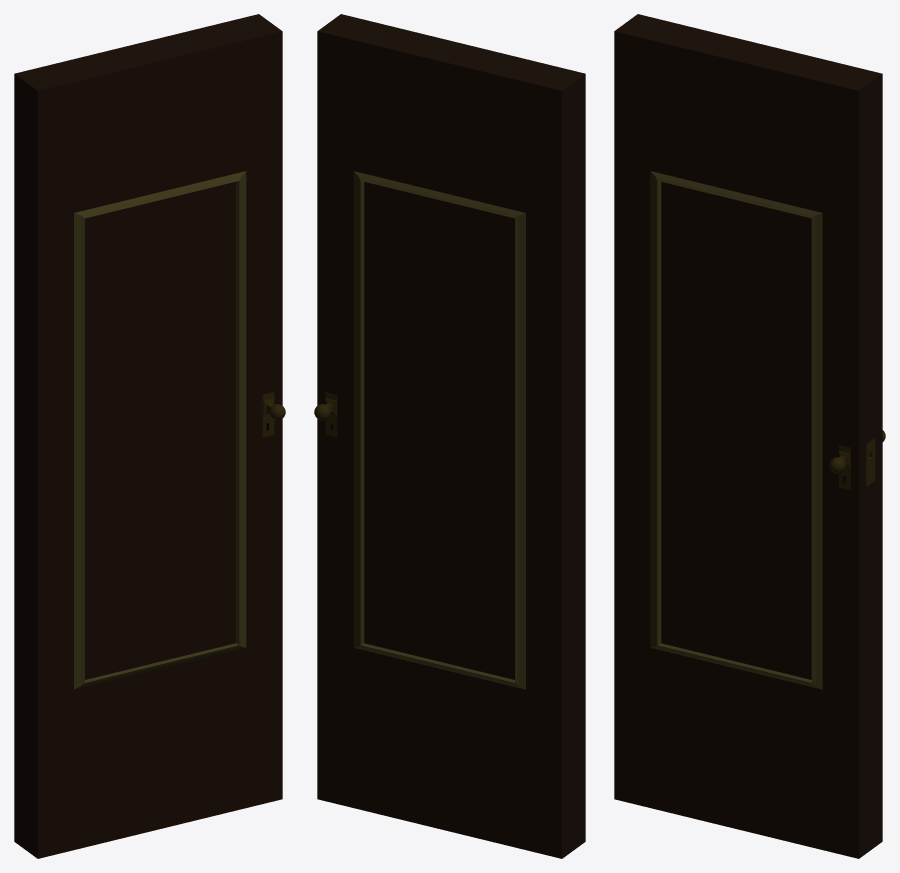
Rendered from puerta.FBX.
The picture shows the model from 3 angles, left to right: view 1: azimuth 30°, elevation 25°; view 2: azimuth 150°, elevation 25°; view 3: azimuth 330°, elevation 25°; orthographic projection.
Visible parts, largest first — view 1: Plano; view 2: Plano; view 3: Plano.
Part boxes in pixels (x1=…): Plano: x1=14, y1=14, x2=285, y2=858; Plano: x1=314, y1=14, x2=585, y2=858; Plano: x1=614, y1=14, x2=885, y2=858.
Bounding box in the file's own units: 118 × 354 × 40.3.
